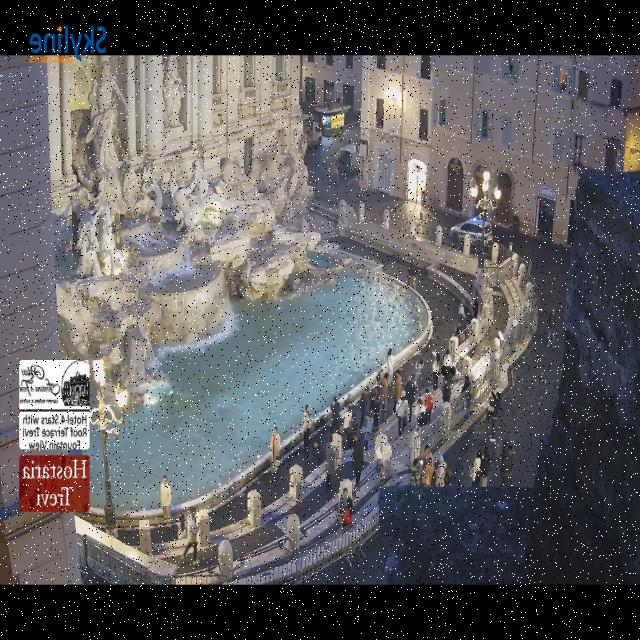person: (182, 508, 199, 565), (486, 390, 500, 442), (352, 432, 363, 487), (395, 391, 407, 436), (160, 476, 171, 523), (325, 438, 335, 489), (404, 378, 415, 423), (432, 455, 447, 488), (358, 386, 368, 429), (470, 449, 481, 487), (370, 390, 380, 430), (302, 405, 311, 449), (460, 375, 470, 414), (270, 428, 279, 471), (420, 456, 432, 487), (346, 416, 357, 449), (329, 396, 339, 432), (411, 359, 423, 389), (480, 448, 489, 487), (340, 400, 351, 431), (380, 373, 387, 419), (547, 309, 555, 349), (488, 391, 500, 417), (393, 370, 402, 404), (341, 498, 351, 528), (338, 488, 347, 521), (364, 413, 372, 450), (409, 458, 419, 487), (416, 398, 426, 427), (337, 423, 347, 451), (423, 389, 431, 424), (432, 352, 439, 390), (177, 511, 186, 539), (442, 350, 451, 376), (407, 260, 415, 289), (386, 349, 393, 381), (442, 379, 450, 402), (458, 300, 464, 330), (422, 445, 431, 464), (334, 160, 339, 186), (472, 298, 478, 318), (456, 323, 461, 336)
